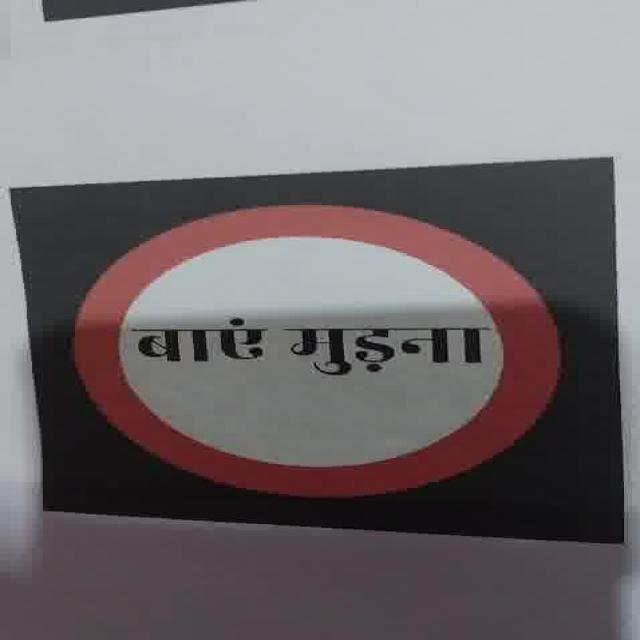hindileft: (70, 202, 565, 499), (127, 319, 493, 376), (108, 304, 282, 394), (36, 0, 257, 22)
